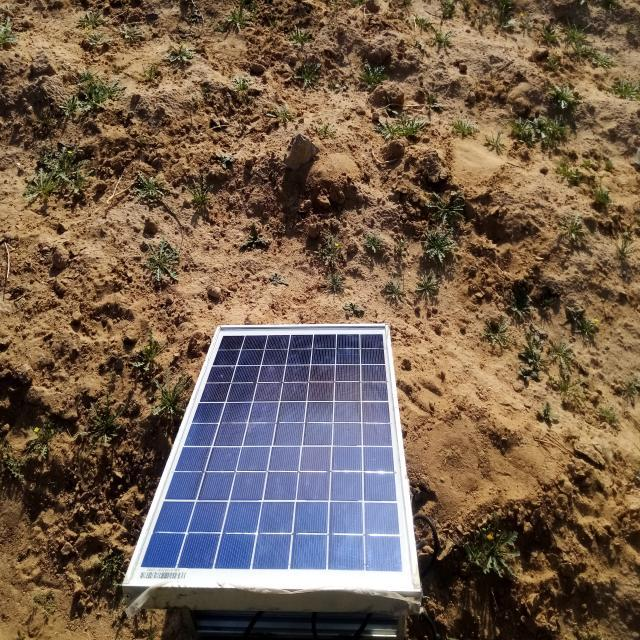no faulty: (124, 324, 419, 591)
